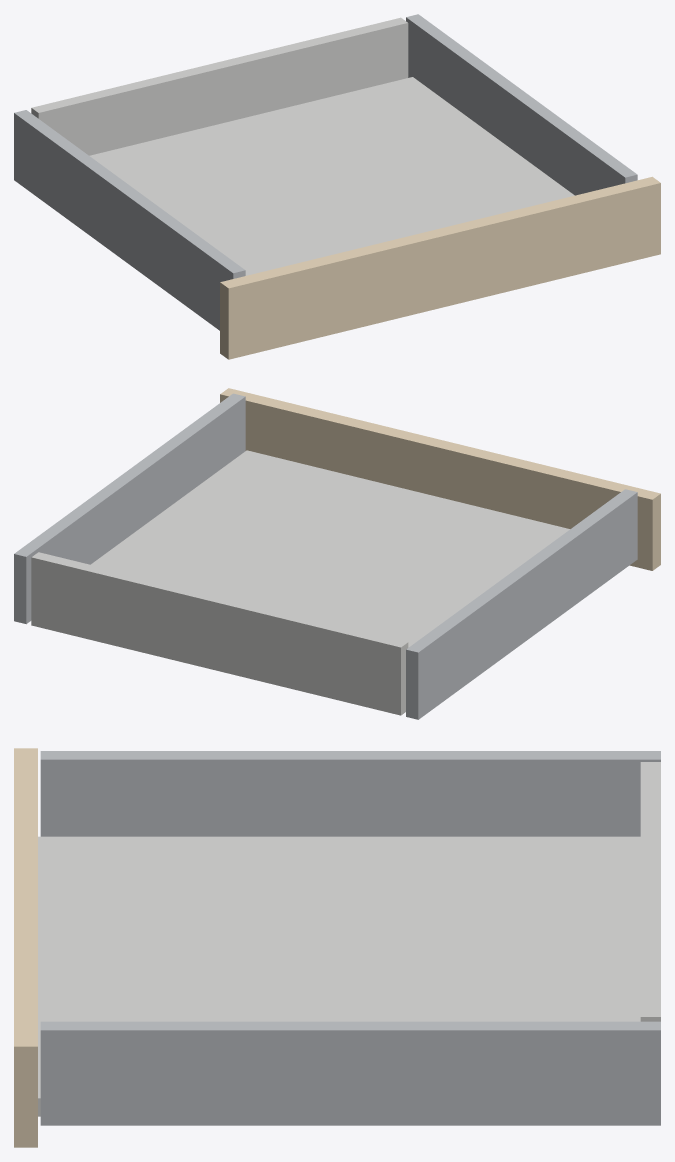
The model's file is M5_innv2.glb.
The picture shows the model from 3 angles, top to bottom: view 1: azimuth 30°, elevation 25°; view 2: azimuth 150°, elevation 25°; view 3: azimuth 270°, elevation 25°; orthographic projection. The views are drawn at different scales.
Bounding box in the file's own units: 558 × 95 × 511.
